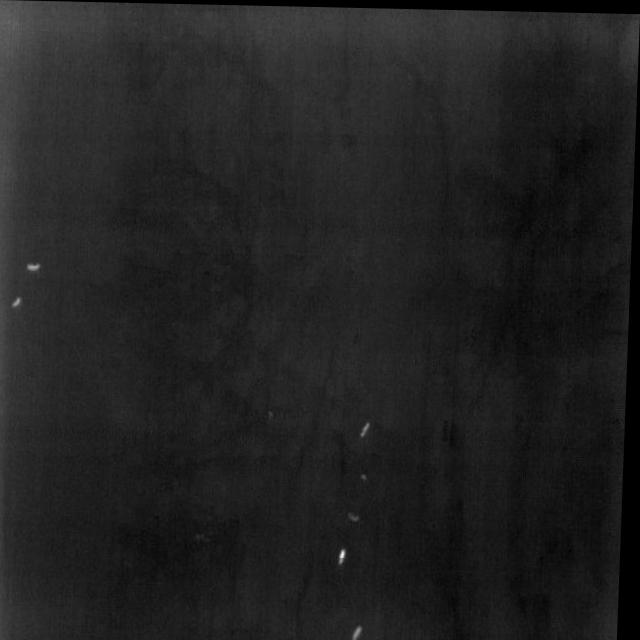deer: (355, 622, 369, 640), (363, 420, 374, 436), (28, 262, 44, 272), (342, 547, 351, 564), (14, 296, 25, 308), (351, 509, 363, 520)
